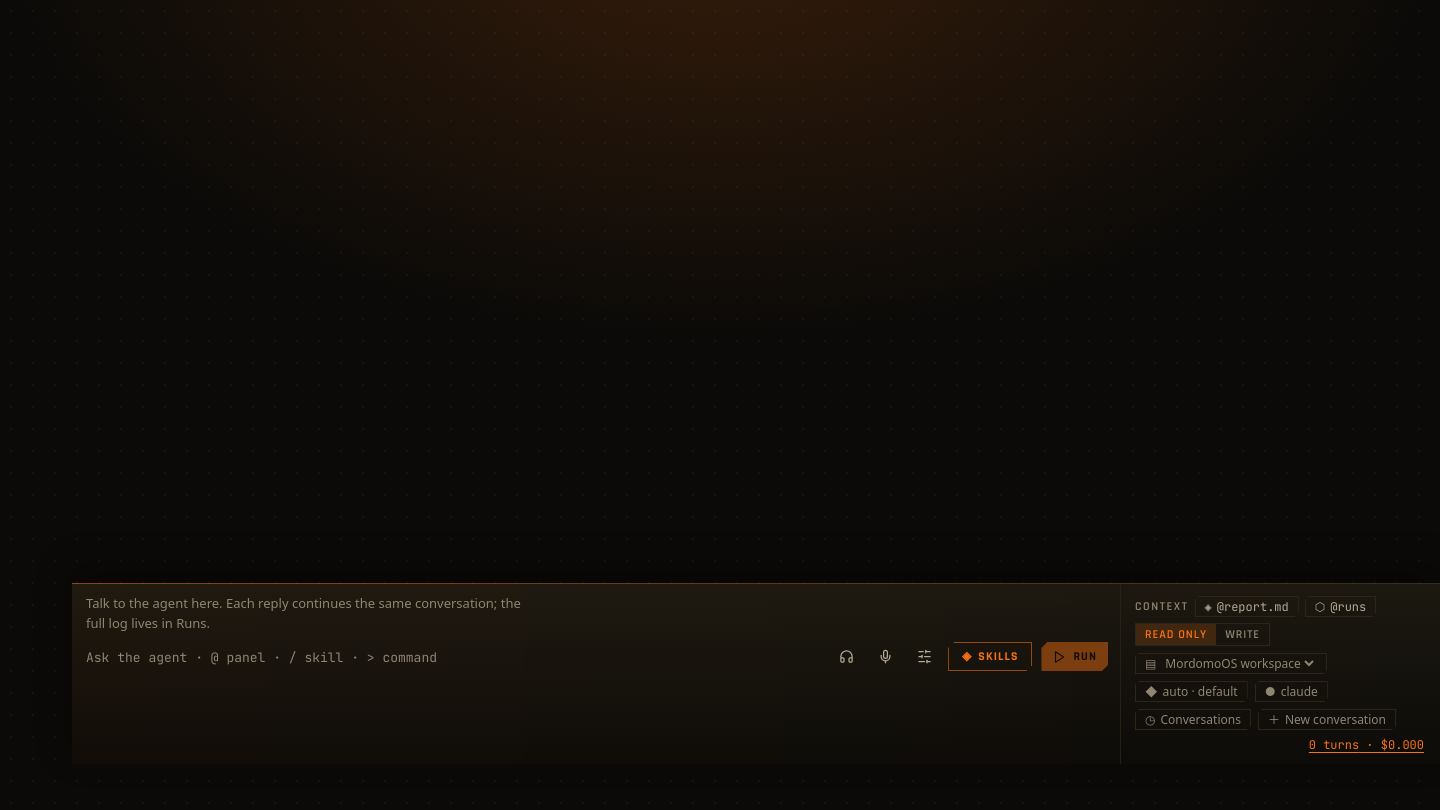
Test: Console › completes any open panel from a half-typed @
In the text box: (454, 658) [86,645,822,671], type "look at @rep"
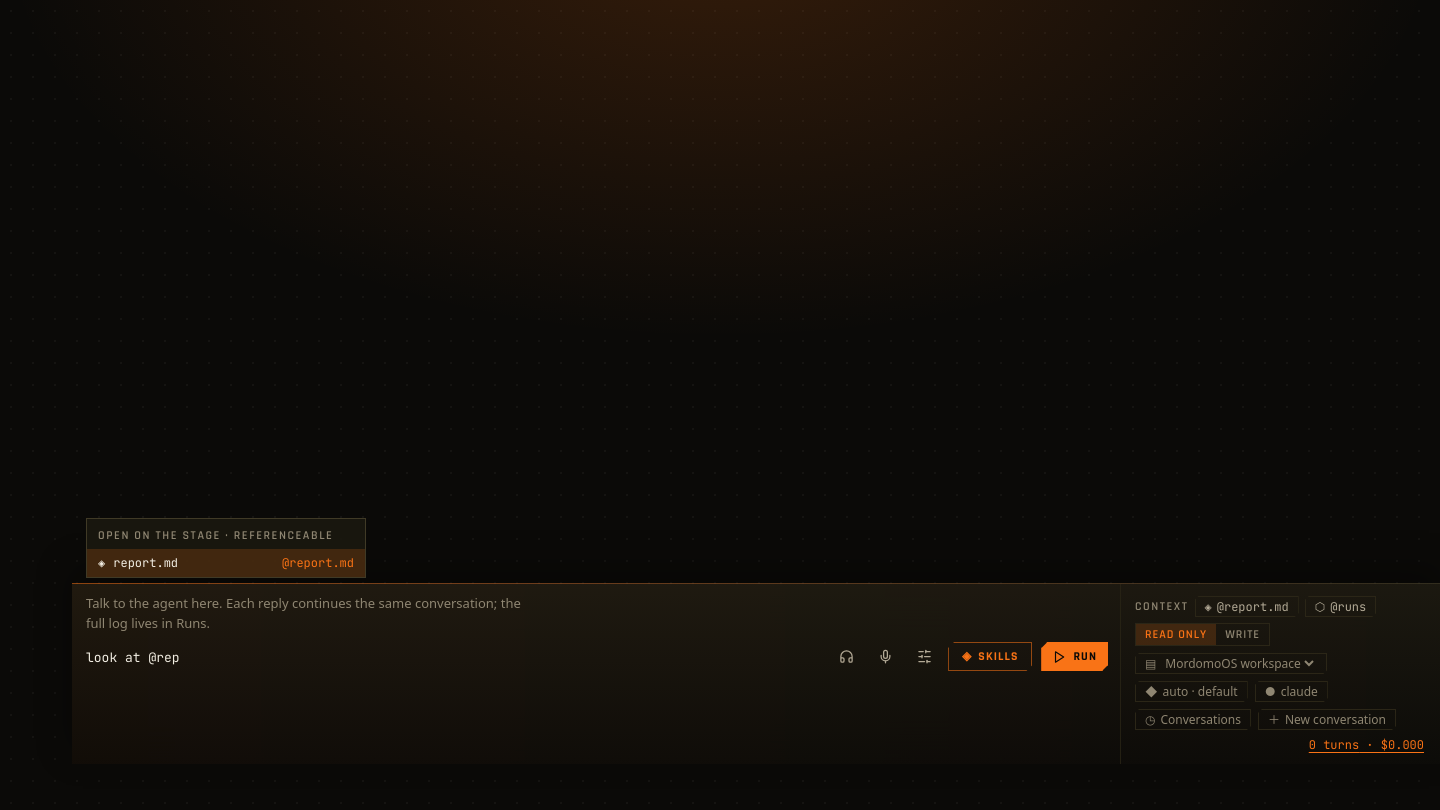
Check: the number of options is 1, box [87,549,365,577]
Check: the option "◈ report.md @report.md" is shown, box [87,549,365,577]
Press Enter in the text box, box [86,645,822,671]
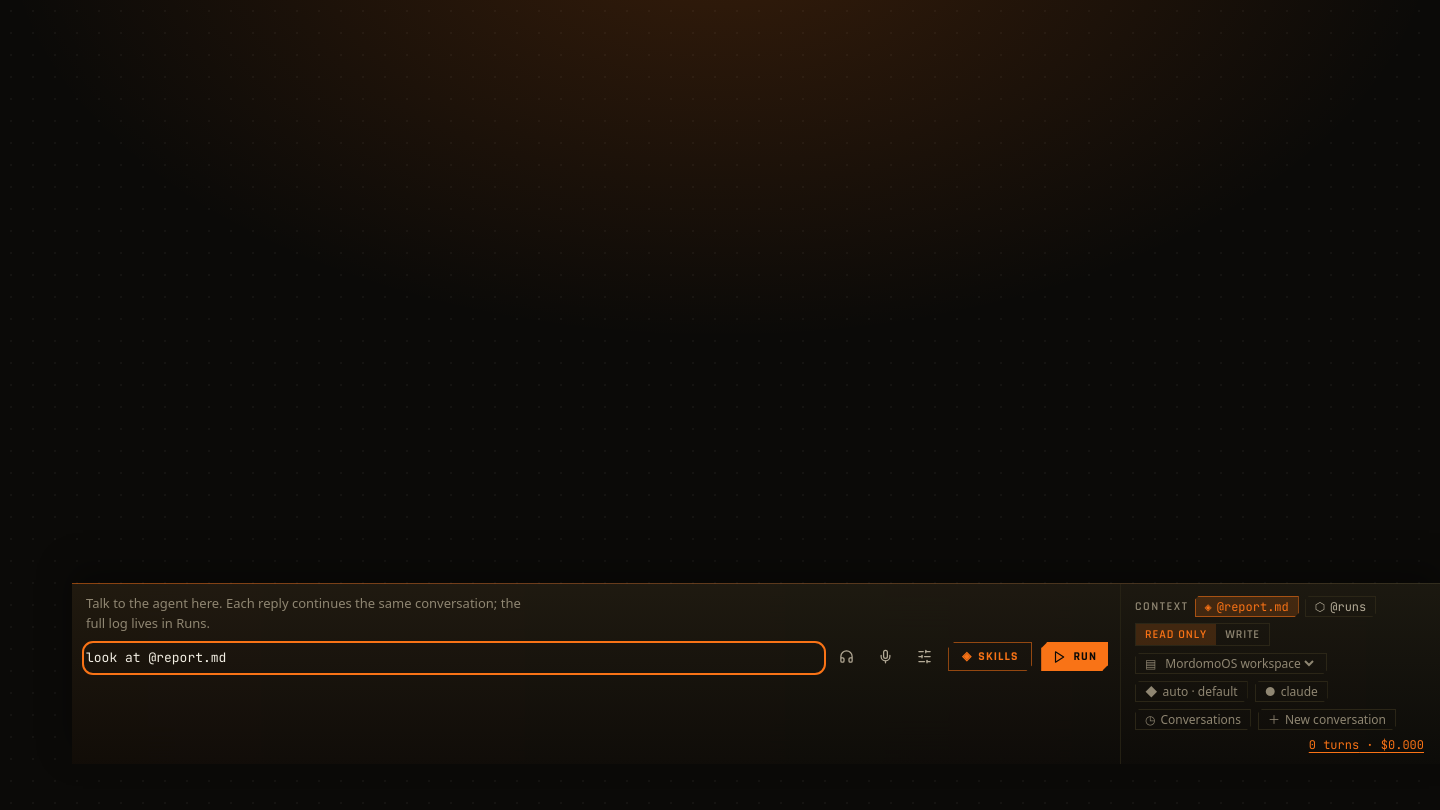
Check: the text box holds "look at @report.md ", box [86,645,822,671]
Check: no options are shown
